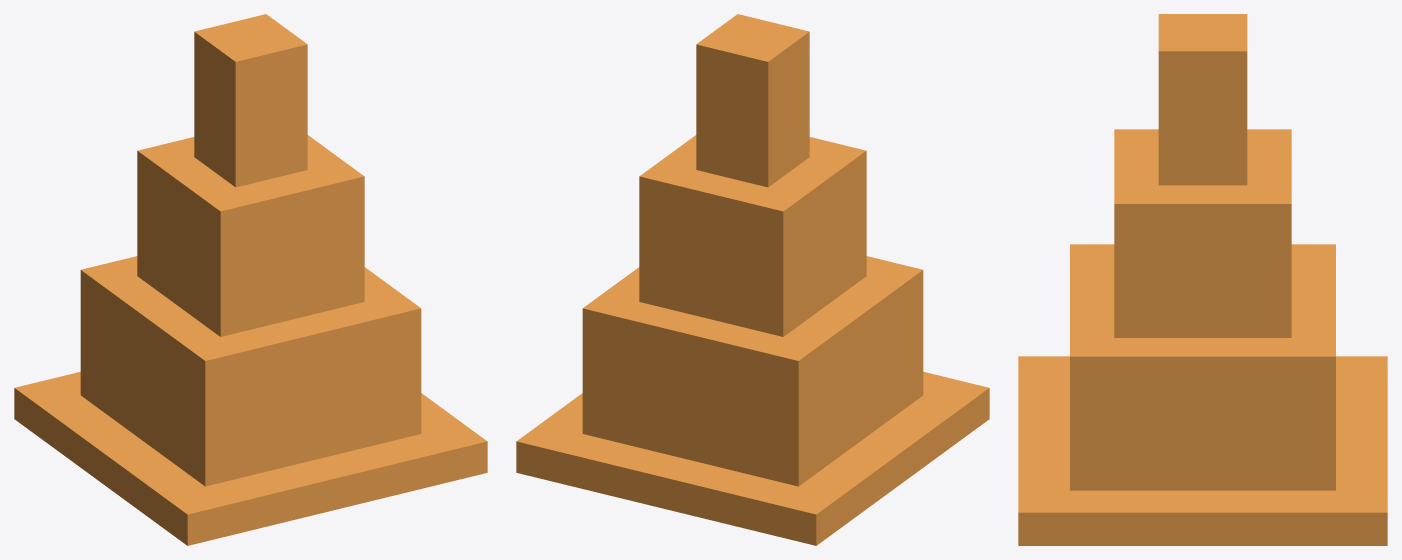
File: traffic_cone.glb
The picture shows the model from 3 angles, left to right: view 1: azimuth 30°, elevation 25°; view 2: azimuth 150°, elevation 25°; view 3: azimuth 270°, elevation 25°; orthographic projection. The views are drawn at different scales.
Size of the model in its own units: 0.5 by 0.65 by 0.5.
